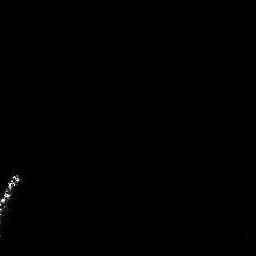ship: (1, 170, 21, 236)
